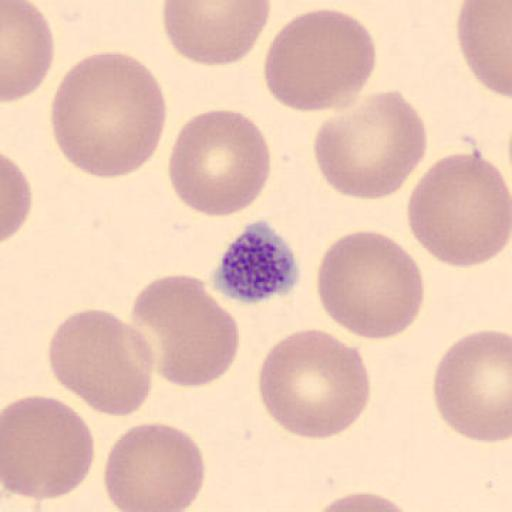Platelet: (208, 220, 304, 305)
RBC: (49, 50, 169, 180), (128, 272, 242, 390), (256, 328, 373, 442), (312, 88, 428, 201), (406, 148, 511, 268), (315, 229, 426, 342), (262, 8, 378, 115), (47, 307, 156, 419), (166, 107, 272, 219), (2, 394, 96, 500), (102, 420, 208, 512), (432, 329, 512, 444), (161, 0, 272, 66), (455, 1, 512, 101), (1, 0, 55, 104), (1, 151, 32, 244), (308, 491, 422, 512)
